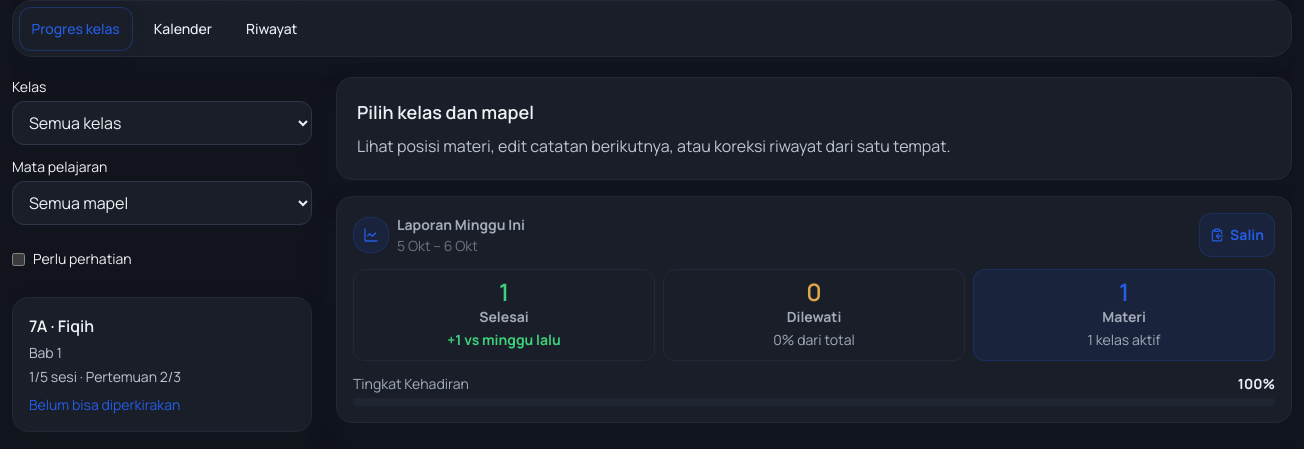
Test case: active workspace flows › exposes general history even when there are no current schedules
Click the button "Riwayat".
click(272, 29)  # box [233,7,310,51]
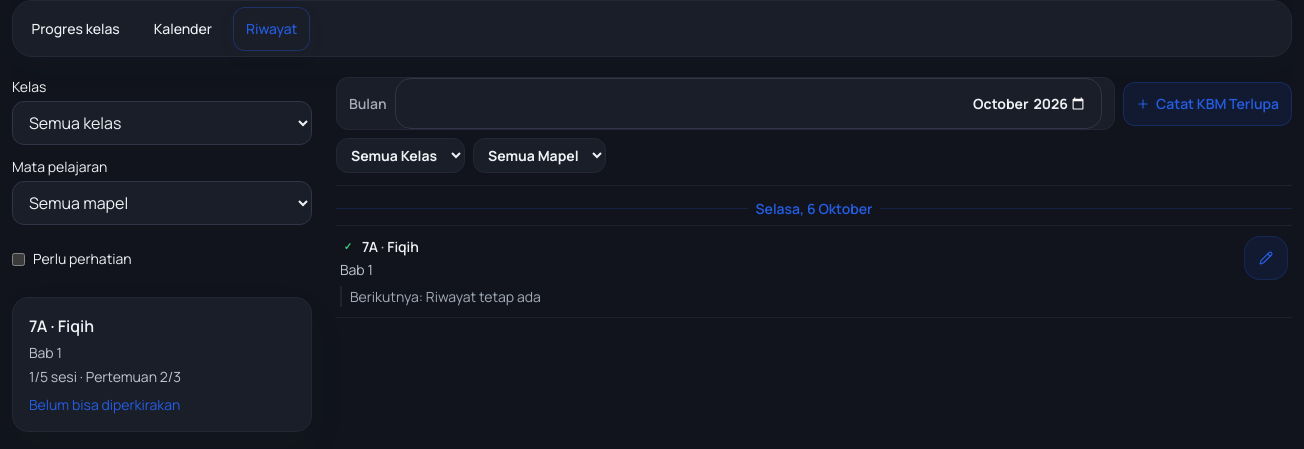
Expected: the text "Berikutnya: Riwayat tetap ada" is shown, [350,287,541,306]
Expected: the button "Catat KBM Terlupa" is shown, [1123,82,1292,126]
